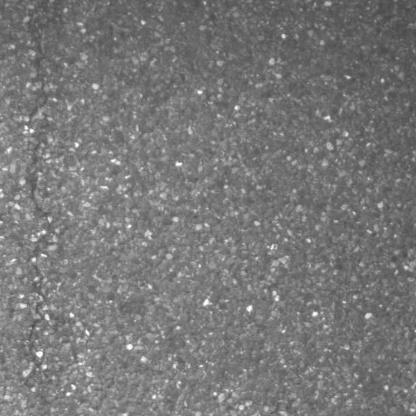Cracks: (23, 56, 58, 248), (20, 261, 55, 392)
